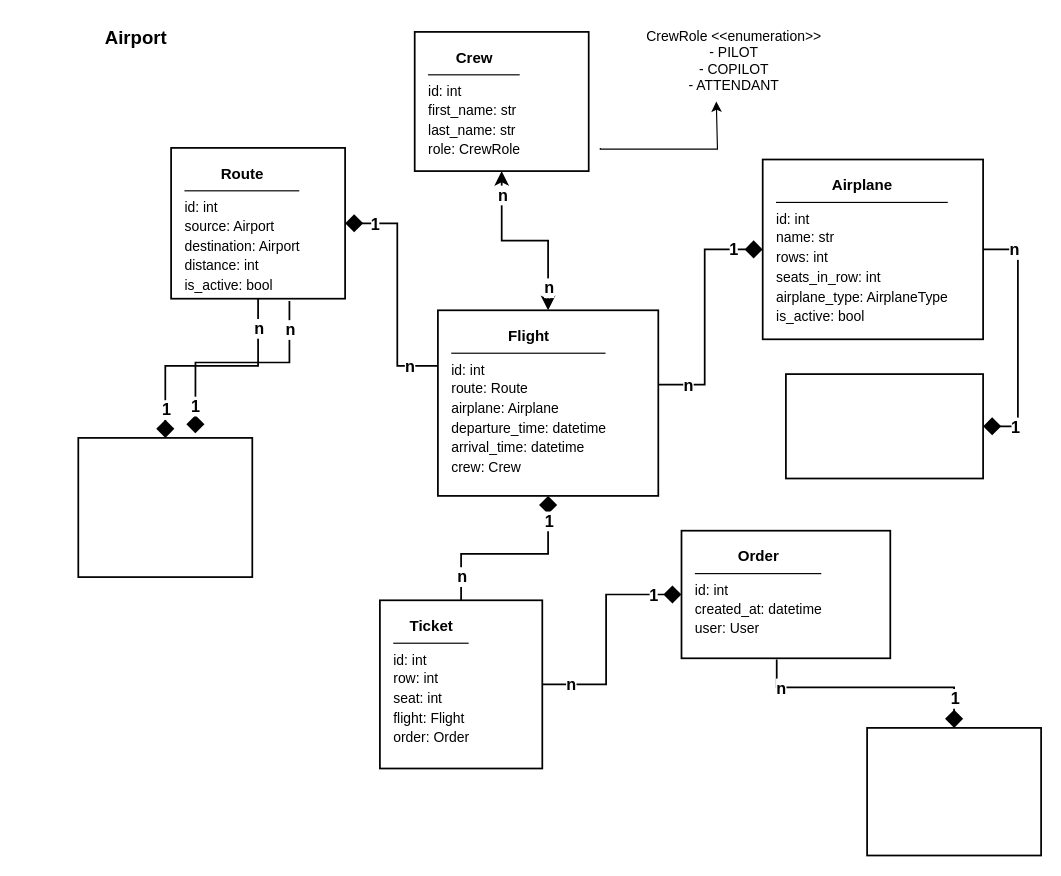
Image size: 1061x876. Some labels were removed from this diagram. The shapes that lost their labels are listed below. From the top down, each one's box as (x1, y1, x2, y2) in pixels, then its label:
(785, 373, 983, 479): AirplaneType id: int name: str
(77, 437, 253, 577): Airport id: int name: str closest_big_city: str is_active: bool
(866, 727, 1041, 856): User id: int email: str password: str
